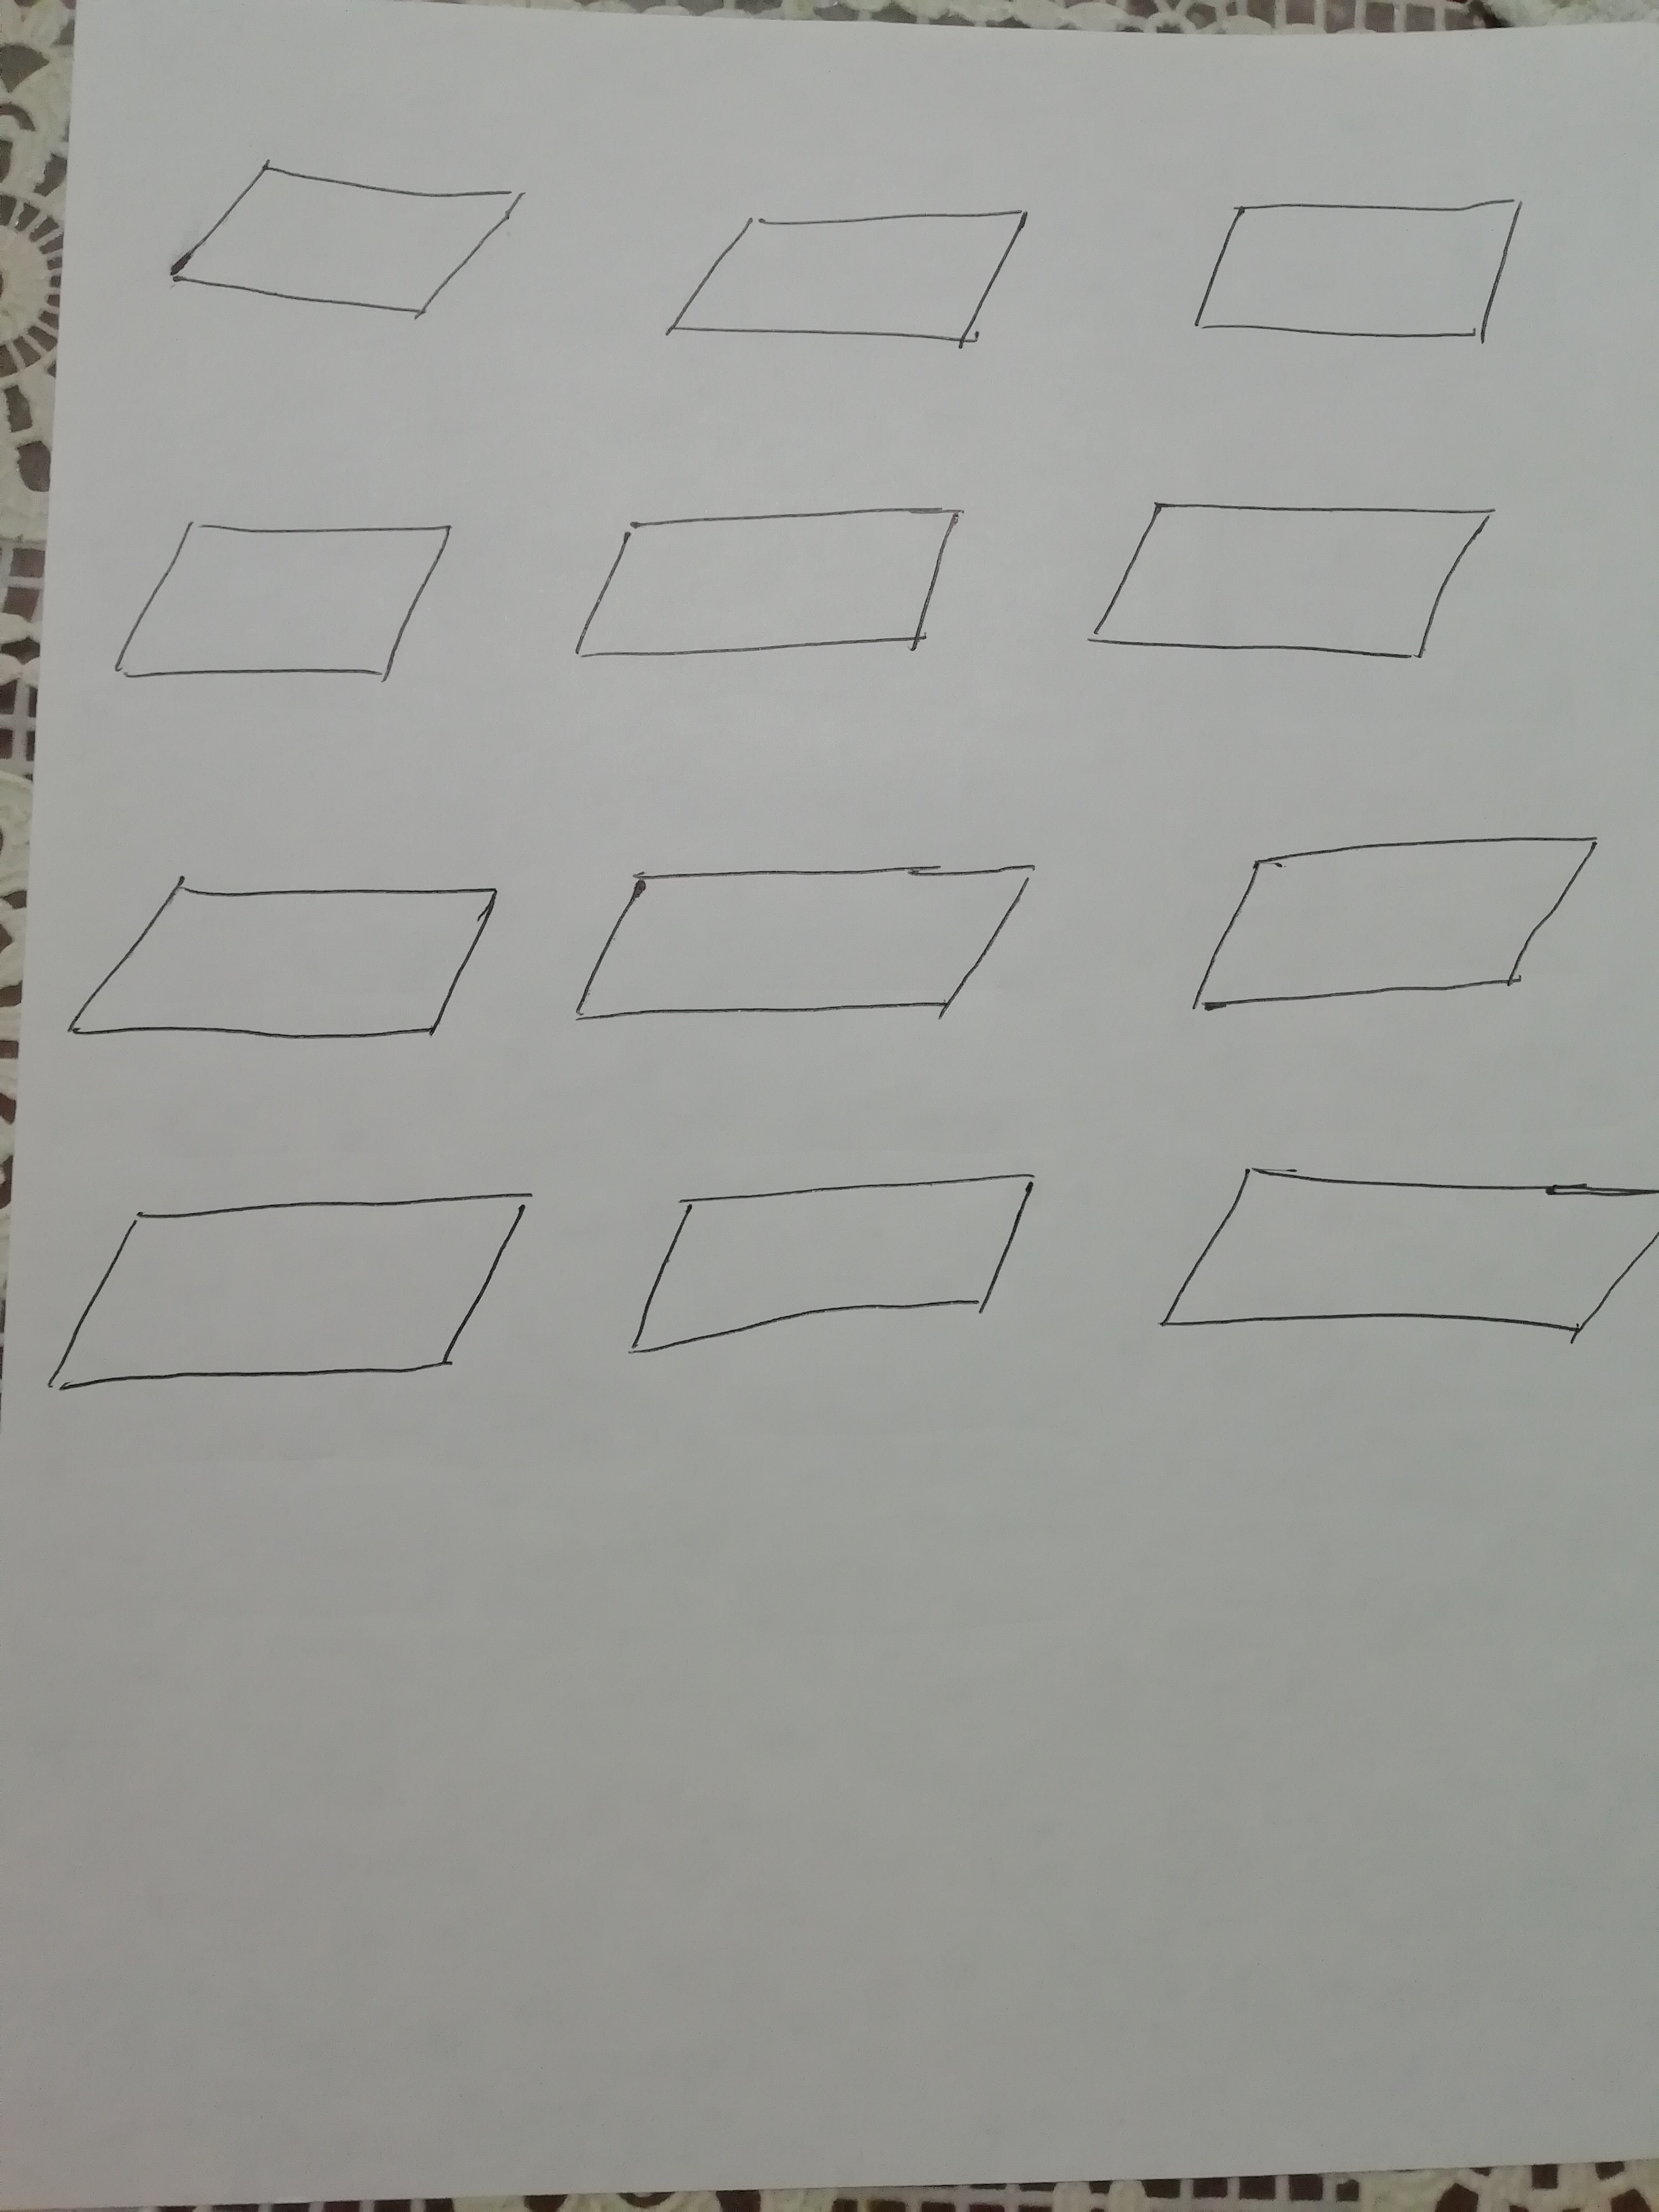scan: (1143, 1130, 1659, 1474), (19, 1172, 580, 1428), (51, 843, 537, 1092), (112, 113, 554, 380), (554, 850, 1068, 1078), (619, 1155, 1061, 1418), (1147, 819, 1636, 1035), (1051, 465, 1516, 691), (77, 482, 481, 733), (629, 162, 1075, 383), (547, 489, 1002, 698), (1168, 167, 1547, 380)
